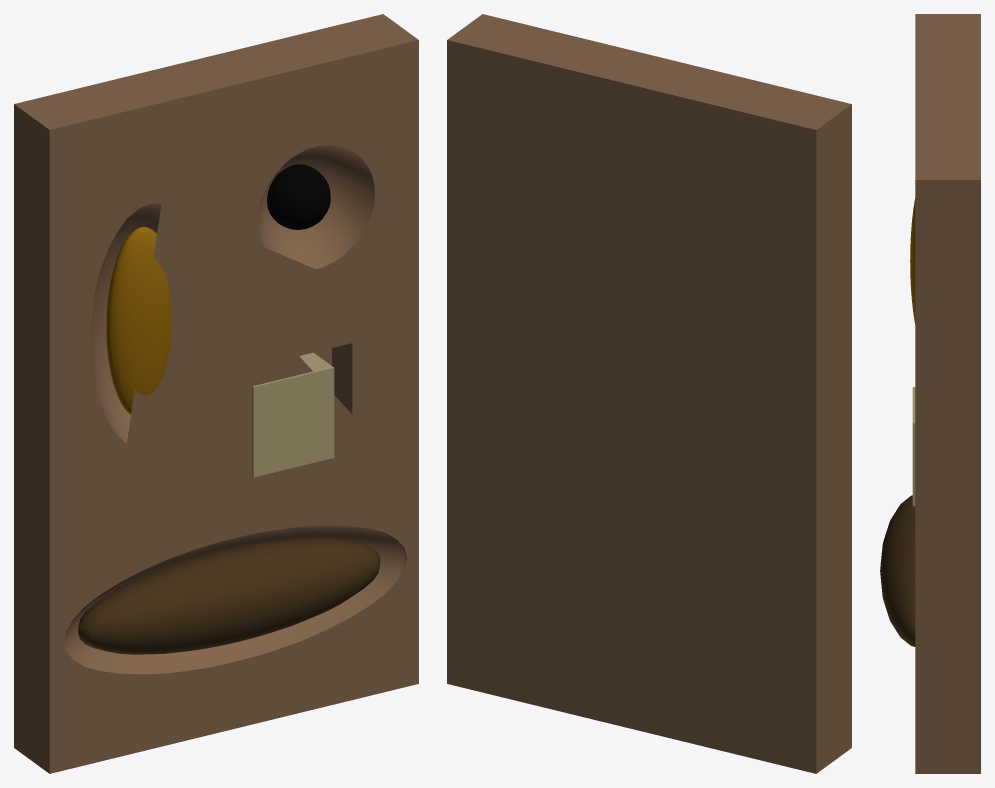
Rendered from BH-door.fbx.
The picture shows the model from 3 angles, left to right: view 1: azimuth 30°, elevation 25°; view 2: azimuth 150°, elevation 25°; view 3: azimuth 270°, elevation 25°; orthographic projection. The views are drawn at different scales.
Visible parts, largest first — view 1: pCube6, pSphere6, pSphere5, pCube7, pSphere4; view 2: pCube6; view 3: pCube6, pSphere6, pSphere5, pCube7.
Part boxes in pixels (bbox=[...]): pCube6: bbox=[14, 14, 418, 773]; pSphere6: bbox=[78, 538, 380, 654]; pSphere5: bbox=[106, 227, 171, 414]; pCube7: bbox=[252, 352, 334, 477]; pSphere4: bbox=[267, 164, 330, 229]; pCube6: bbox=[447, 14, 851, 773]; pCube6: bbox=[915, 14, 980, 773]; pSphere6: bbox=[880, 495, 915, 646]; pSphere5: bbox=[910, 198, 915, 324]; pCube7: bbox=[912, 387, 915, 506].
Size of the model in its own units: 6 by 10 by 1.54.
